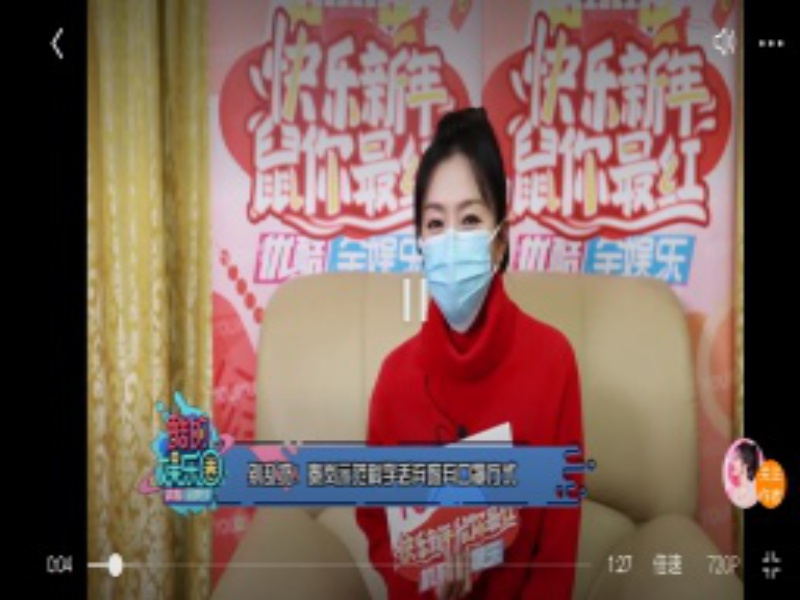ManaoArotava: (388, 110, 520, 345)
